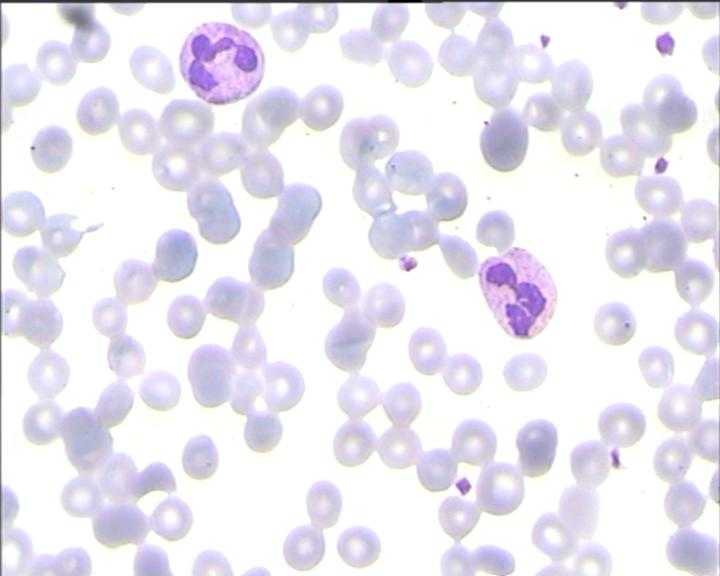neut: (473, 246, 563, 350), (178, 19, 267, 106)
